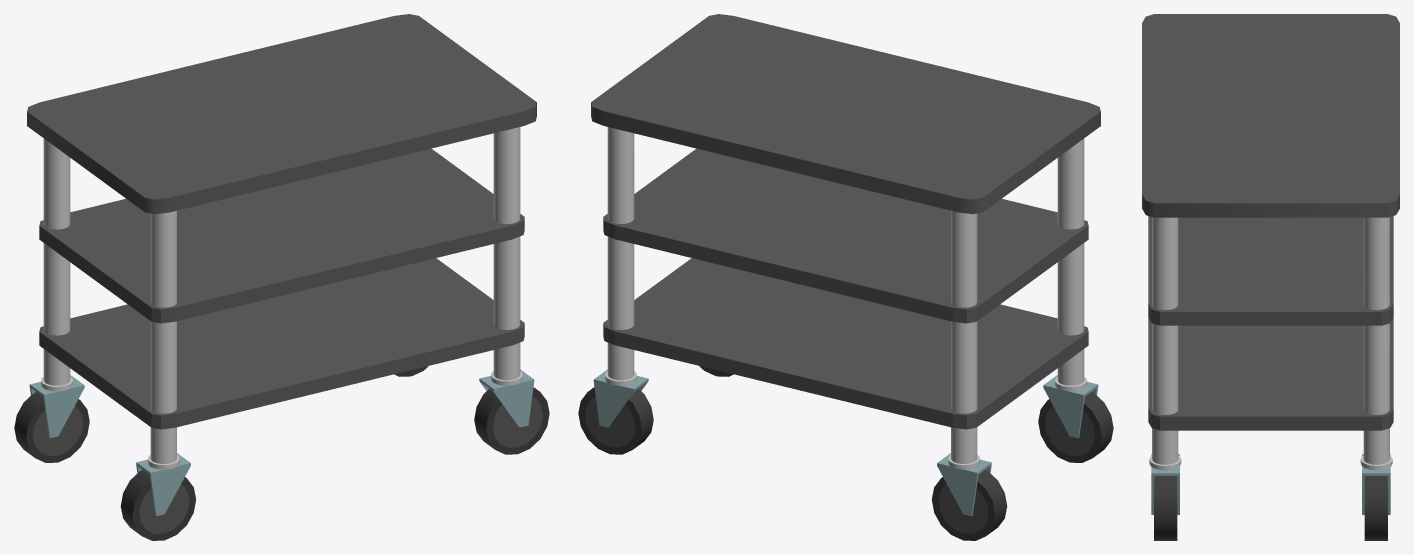
Rendered from FoodTable.fbx.
3 views of the same model, side by side, from view 1: azimuth 30°, elevation 25°; view 2: azimuth 150°, elevation 25°; view 3: azimuth 270°, elevation 25° (orthographic).
Visible parts, largest first — view 1: LowerTable, UpperTable, Wheel.002, Wheel.001, Wheel.004; view 2: LowerTable, UpperTable, Wheel.001, Wheel.002, Wheel.003; view 3: UpperTable, LowerTable, Wheel.003, Wheel.004.
Boxes of the visible parts, x1,y1,x2,y2 form: LowerTable: [29, 148, 534, 516]; UpperTable: [27, 14, 536, 307]; Wheel.002: [14, 392, 89, 462]; Wheel.001: [120, 470, 196, 540]; Wheel.004: [474, 387, 549, 454]; LowerTable: [593, 148, 1098, 516]; UpperTable: [591, 14, 1100, 307]; Wheel.001: [1038, 392, 1113, 462]; Wheel.002: [931, 470, 1007, 540]; Wheel.003: [578, 387, 653, 454]; UpperTable: [1142, 14, 1399, 310]; LowerTable: [1148, 216, 1393, 514]; Wheel.003: [1364, 476, 1387, 540]; Wheel.004: [1154, 476, 1177, 540].
Bounding box in the file's own units: 114 × 90.79 × 61.71.
